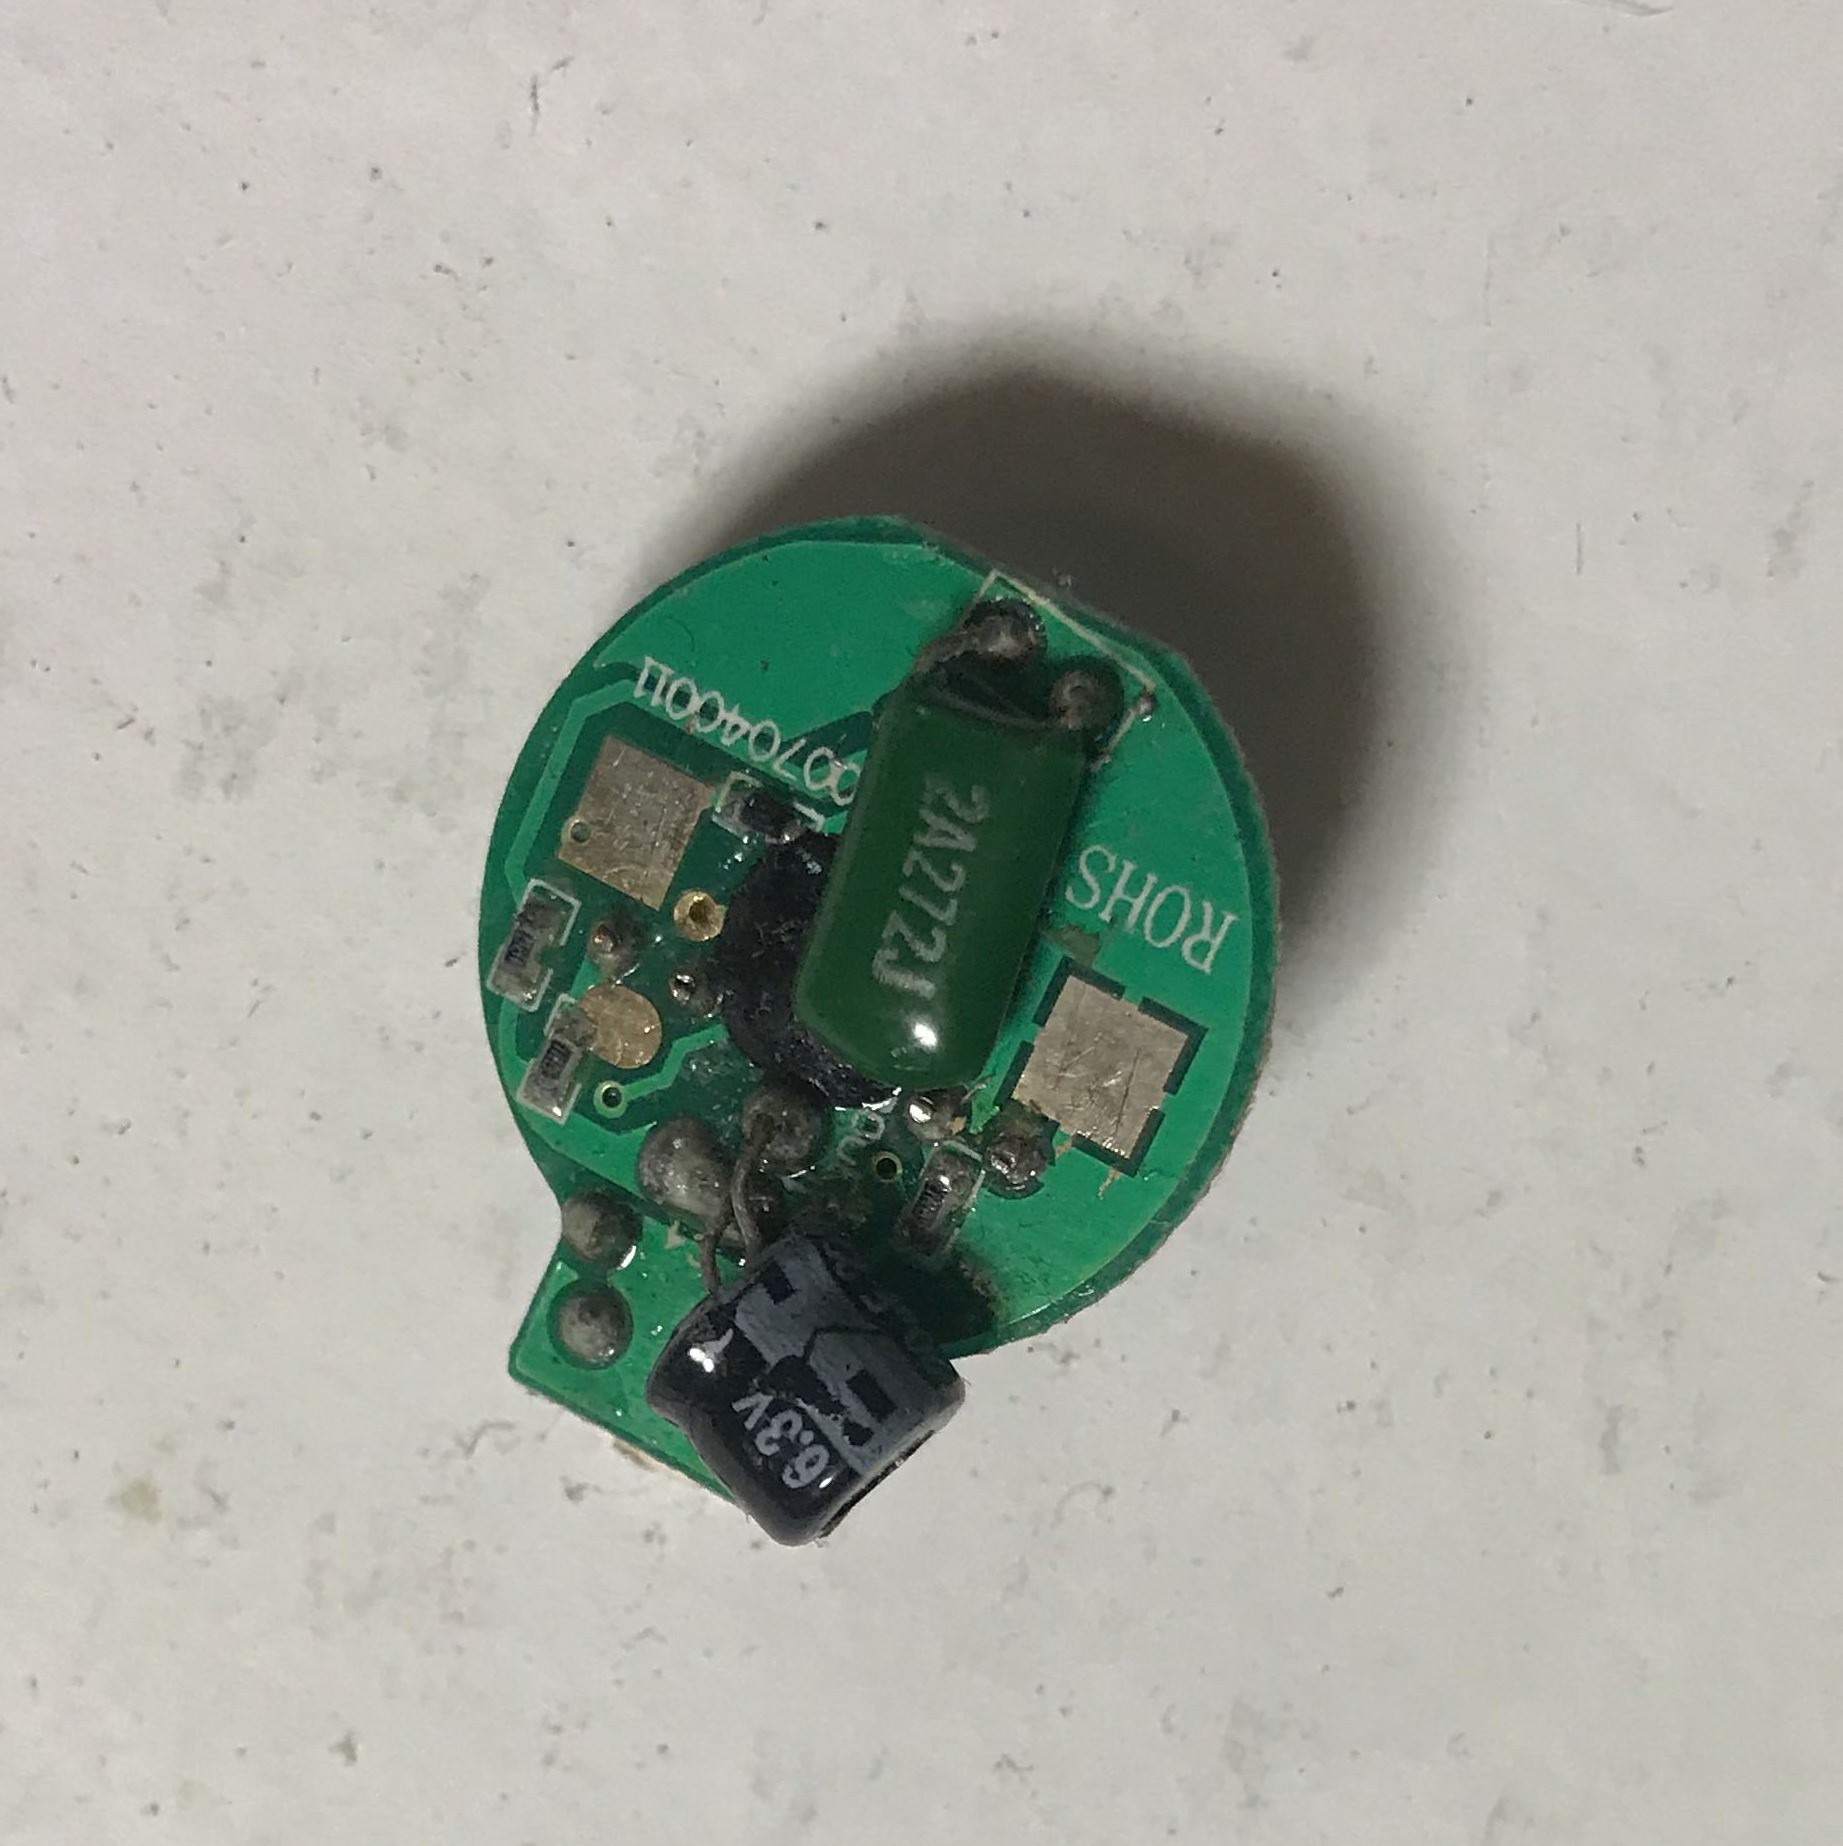Capacitor: (646, 1228, 970, 1549)
